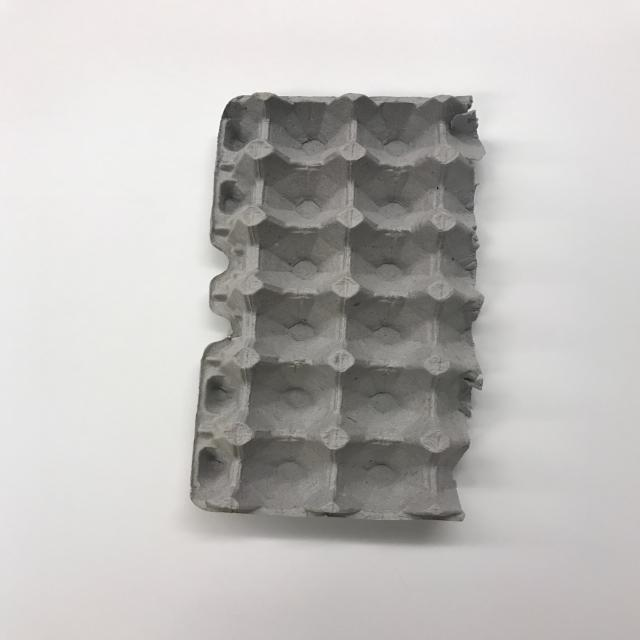paper: (146, 61, 533, 564)
